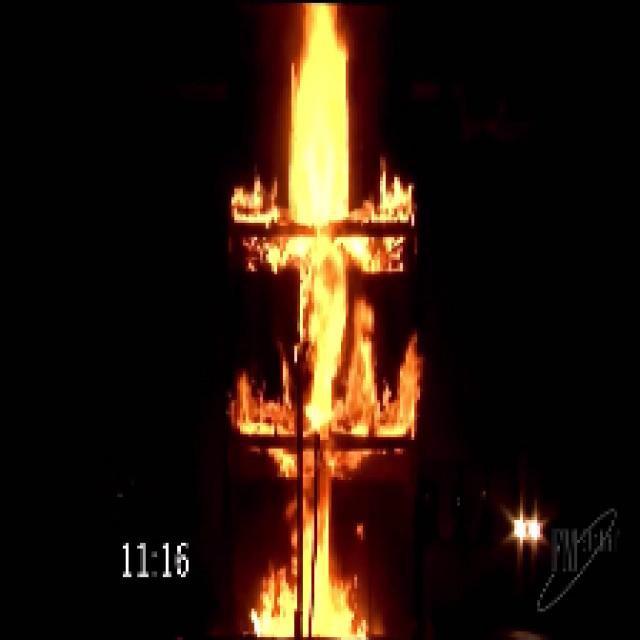fire: (268, 8, 366, 636)
